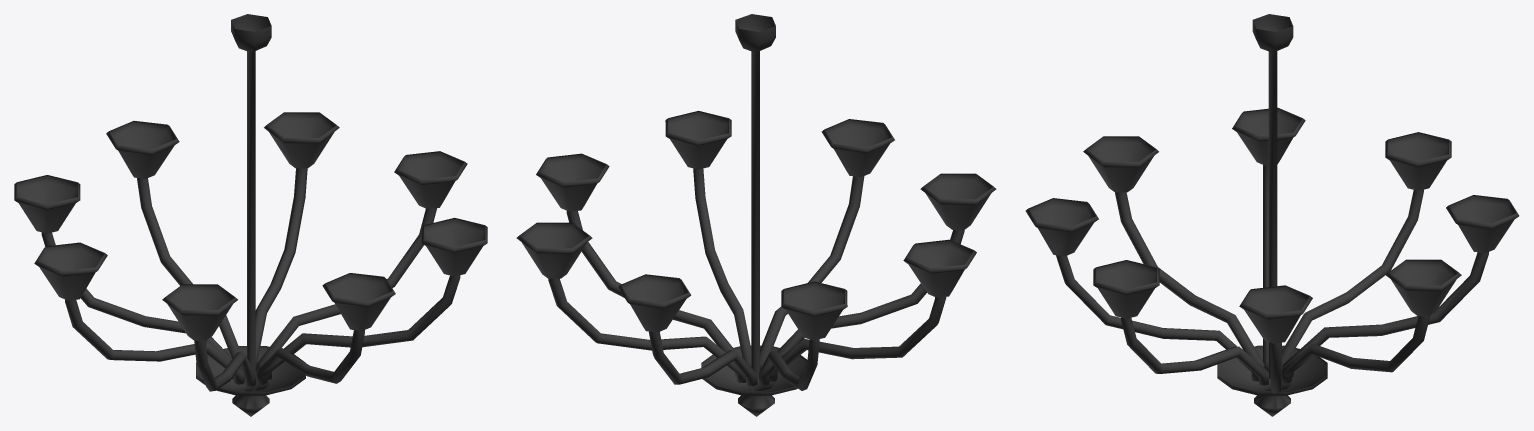
The model's file is Ceiling chandelier.fbx.
3 views of the same model, side by side, from view 1: azimuth 30°, elevation 25°; view 2: azimuth 150°, elevation 25°; view 3: azimuth 270°, elevation 25° (orthographic).
Parts seen in each view (by area): view 1: Ceiling chandelier; view 2: Ceiling chandelier; view 3: Ceiling chandelier.
Part boxes in pixels (x1=…): Ceiling chandelier: x1=14, y1=14, x2=487, y2=416; Ceiling chandelier: x1=516, y1=14, x2=996, y2=416; Ceiling chandelier: x1=1025, y1=14, x2=1519, y2=416.
Bounding box in the file's own units: 152 × 134 × 152.
